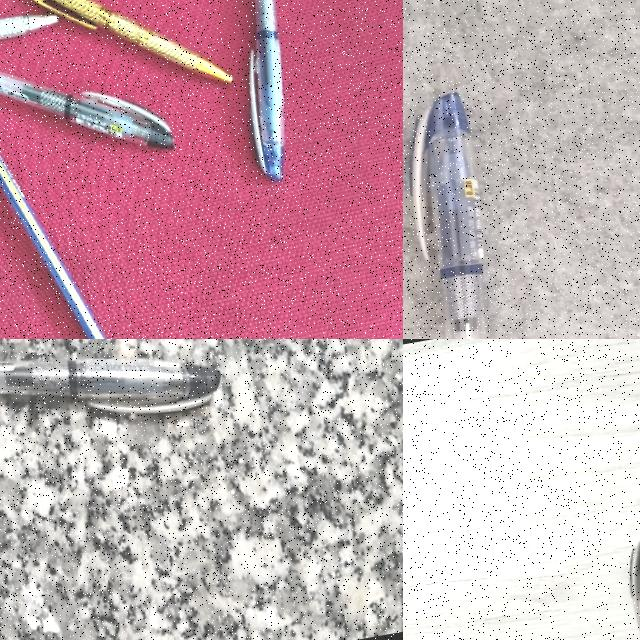pen: (203, 0, 315, 180), (411, 93, 486, 338), (0, 72, 172, 146), (0, 359, 219, 412)
pencil: (0, 155, 107, 339)
signature pen: (34, 0, 231, 81), (0, 0, 56, 72)
